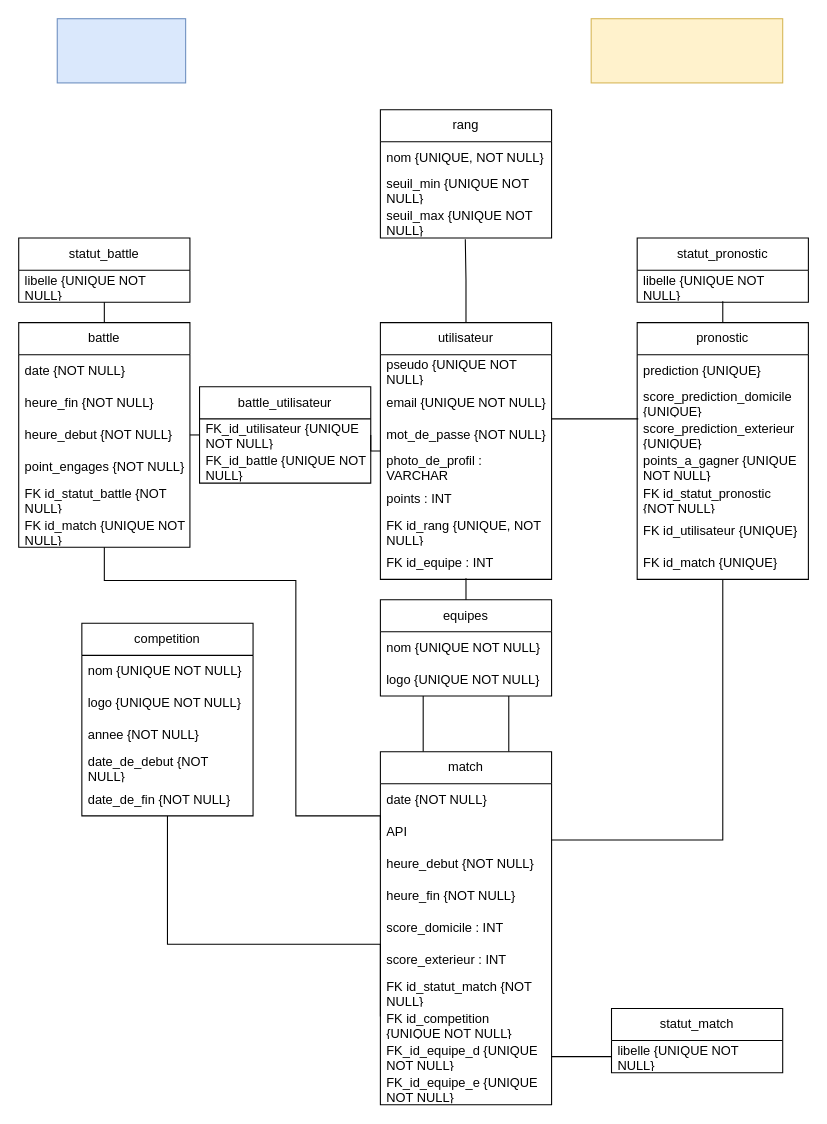
Some shapes in this 827 by 1124 pixel diagram are drawn without their labels. The shapes that lost their labels are listed below. From the top down, each one's centre as x and y in pixels, then its label:
the point at 121,50: MLD
the point at 686,50: Tous les objets contiennent un PK_ID {UNIQUE, NOT NULL}
